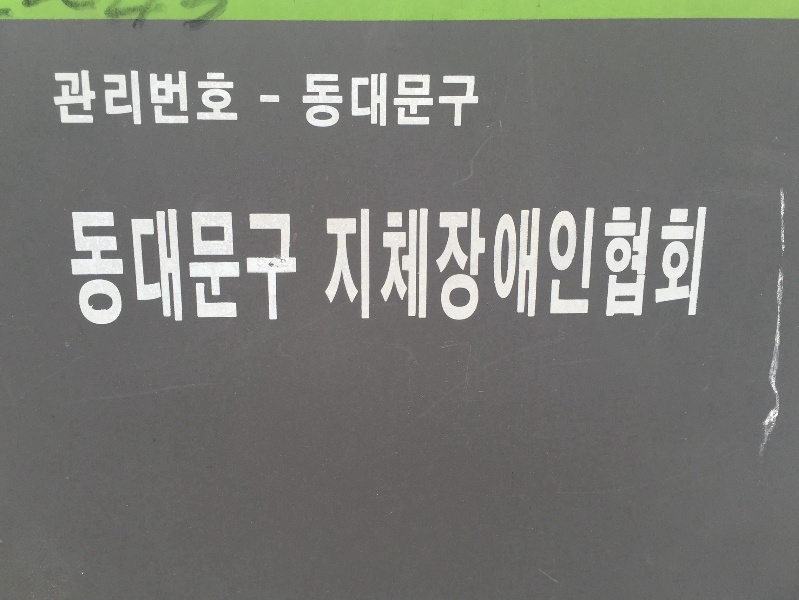text: (65, 209, 80, 329), (81, 209, 96, 329), (97, 209, 112, 329), (113, 209, 128, 329), (129, 209, 144, 329), (145, 209, 160, 329), (161, 209, 176, 329), (177, 209, 192, 329), (193, 209, 208, 329), (209, 209, 224, 329), (225, 209, 240, 329), (241, 209, 256, 329), (257, 209, 272, 329), (273, 209, 288, 329), (321, 204, 336, 323), (337, 204, 352, 323), (353, 204, 368, 323), (369, 204, 384, 323), (385, 204, 400, 323), (401, 204, 416, 323), (417, 204, 432, 323), (433, 204, 448, 323), (449, 204, 464, 323), (465, 204, 480, 323), (481, 204, 496, 323), (497, 204, 512, 323), (513, 204, 528, 323), (529, 204, 544, 323), (545, 204, 560, 323), (561, 204, 576, 323), (577, 204, 592, 323), (593, 204, 608, 323), (609, 204, 624, 323), (625, 204, 640, 323), (641, 204, 656, 323), (657, 204, 672, 323), (673, 204, 688, 323), (689, 204, 704, 323), (289, 209, 301, 329), (465, 71, 481, 130), (49, 67, 64, 128), (65, 67, 80, 128), (81, 67, 96, 128), (97, 67, 112, 128), (113, 67, 128, 128), (129, 67, 144, 128), (145, 67, 160, 128), (161, 67, 176, 128), (177, 67, 192, 128), (193, 67, 208, 128), (209, 67, 224, 128), (225, 67, 240, 128), (241, 67, 256, 128), (257, 67, 272, 128), (305, 71, 320, 130), (321, 71, 336, 130), (337, 71, 352, 130), (353, 71, 368, 130), (369, 71, 384, 130), (385, 71, 400, 130), (401, 71, 416, 130), (417, 71, 432, 130), (433, 71, 448, 130), (449, 71, 464, 130), (705, 204, 711, 323), (273, 67, 283, 128), (45, 67, 48, 128), (301, 71, 304, 130)
